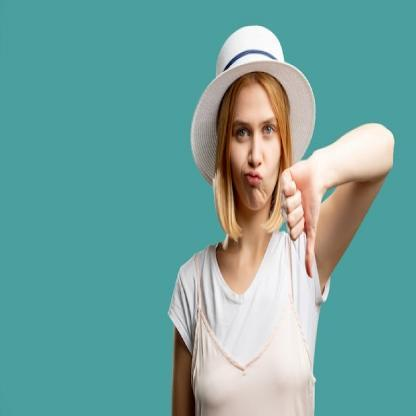thumb_down: (278, 157, 325, 278)
